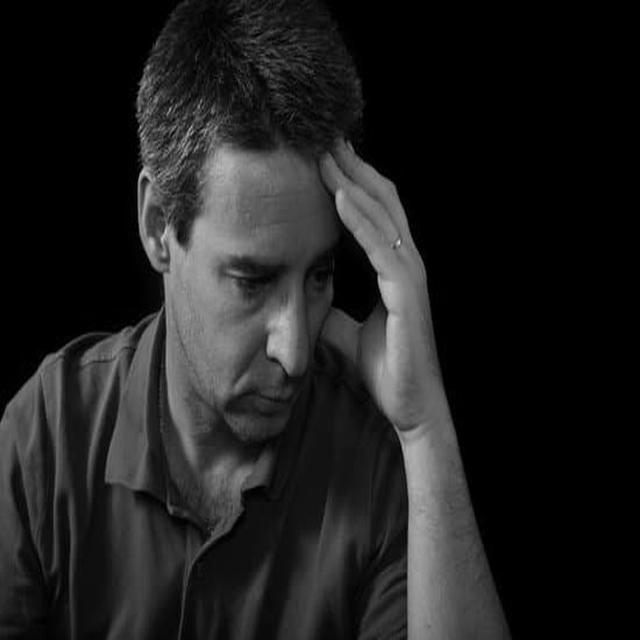Sadness: (204, 153, 338, 440)
